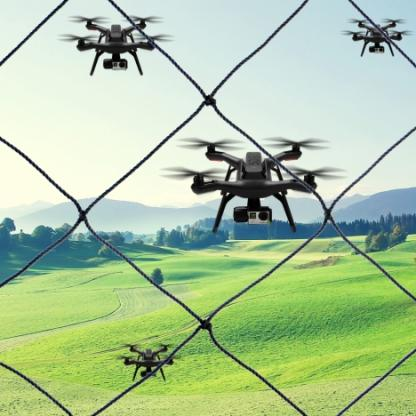drone: (162, 124, 336, 230), (61, 8, 176, 68), (108, 330, 188, 385), (344, 11, 410, 61)
